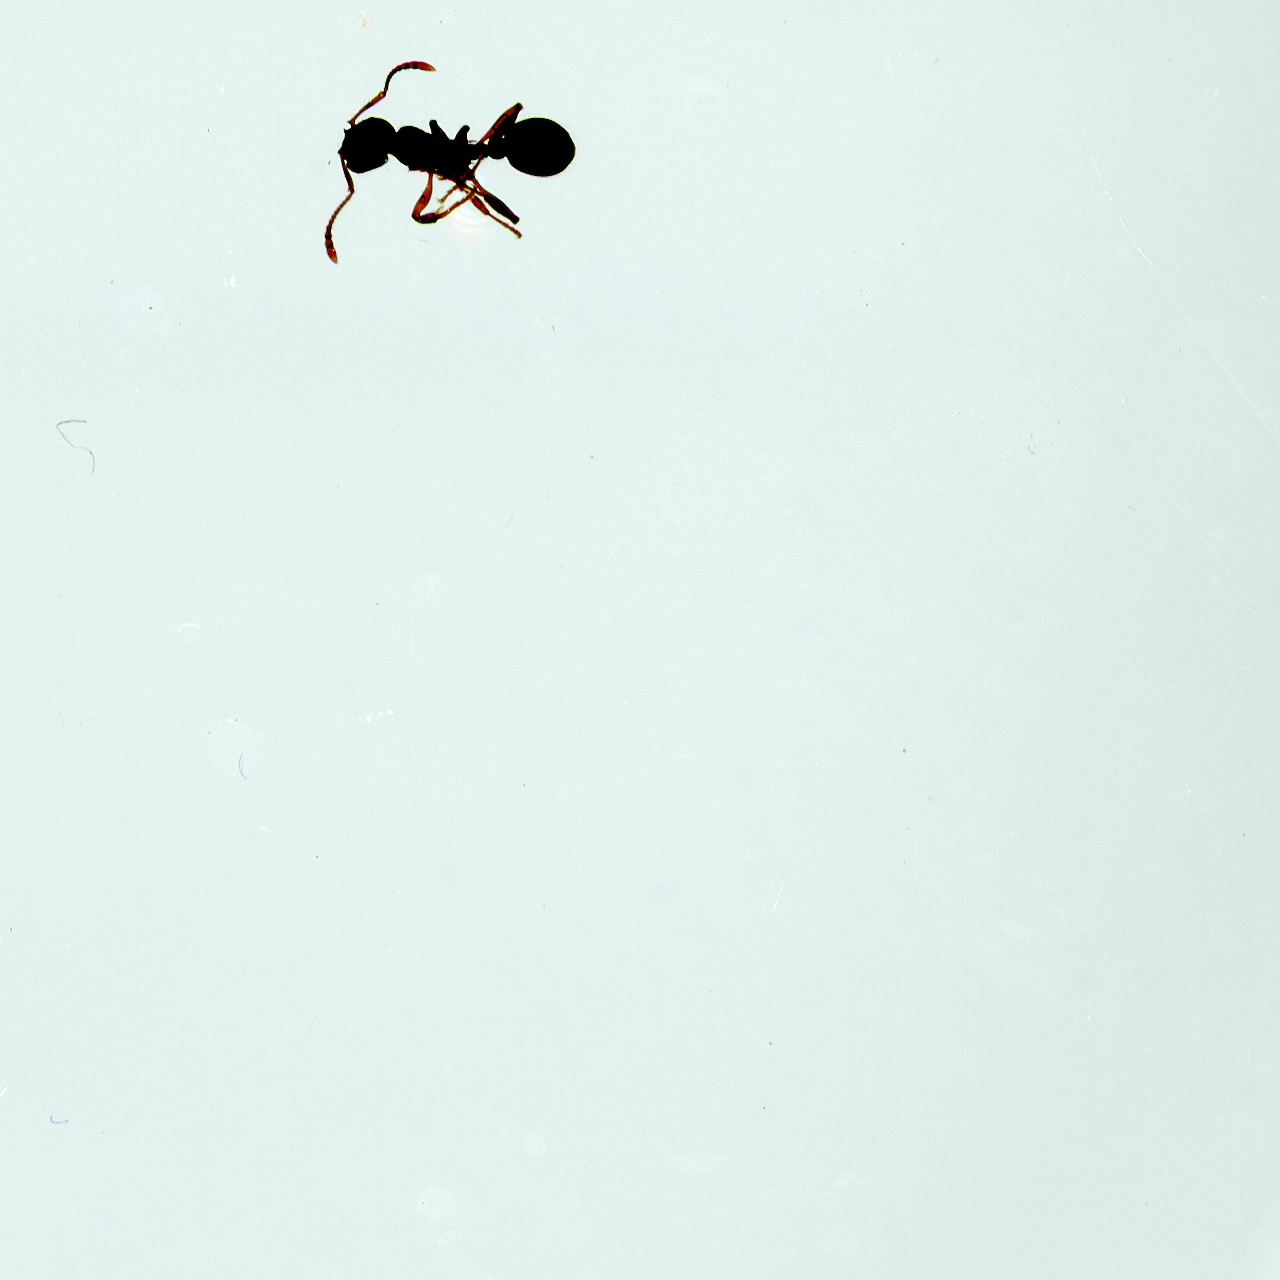arthropod: (290, 54, 588, 284)
